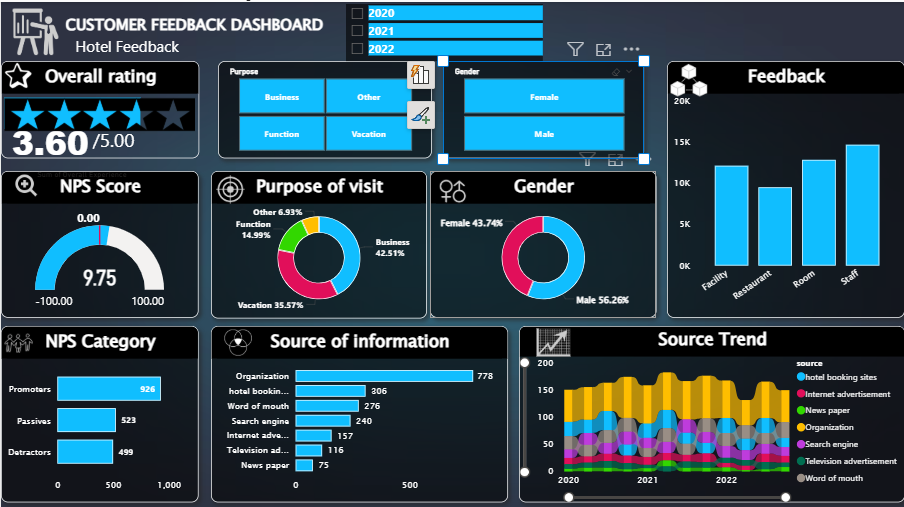

The dashboard page shown, as its layout file describes it:
{"tool":"powerbi","page":{"name":"Page 1","canvas":[1280,720],"ordinal":0},"visuals":[{"type":"shape","title":"Overall rating","box":[0,84.2,281.1,138.4],"z":1000},{"type":"gauge","fields":{"Y":["general.NPS Score"]},"box":[0,239.7,279.7,208.3],"z":2000},{"type":"slicer","fields":{"Values":["general.Purpose"]},"box":[308.2,84.2,302.5,138.4],"z":3000},{"type":"slicer","fields":{"Values":["general.Gender"]},"box":[626.4,84.2,285.4,138.4],"z":4000},{"type":"clusteredBarChart","title":"NPS Category","fields":{"Category":["general.NPS"],"Y":["CountNonNull(general.NPS)"]},"box":[0,459.5,279.7,249.7],"z":5000},{"type":"donutChart","title":"Purpose of visit","fields":{"Category":["general.Purpose"],"Y":["CountNonNull(general.Purpose)"]},"box":[298.2,239.7,306,209],"z":6000},{"type":"donutChart","title":"Gender","fields":{"Category":["general.Gender"],"Y":["CountNonNull(general.Gender)"]},"box":[607.9,239.7,321.1,208.3],"z":7000},{"type":"clusteredBarChart","title":"Source of information","fields":{"Category":["general.source"],"Y":["CountNonNull(general.source)"]},"box":[298.2,459.5,421,249.7],"z":8000},{"type":"ribbonChart","title":"Source Trend","fields":{"Series":["general.source"],"Y":["CountNonNull(general.source)"],"Category":["general.Checkout Date (bins) 2"]},"box":[733.5,459.5,546.5,250],"z":9000},{"type":"clusteredColumnChart","title":"Feedback","fields":{"Category":["Feedback.FeedbackCategory","Feedback.Feedback"],"Y":["Sum(Feedback.Rating Score)"]},"box":[943.2,84.2,336.8,363.9],"z":10000},{"type":"card","fields":{"Values":["Avg(general.Overall Experience)"]},"box":[0,126.9,139.4,139.4],"z":11000},{"type":"textbox","box":[125.1,171.6,130.5,50.1],"z":12000},{"type":"clusteredBarChart","fields":{"Y":["Sum(general.Overall Experience)"]},"box":[0,63.8,229.6,191.3],"z":13000},{"type":"image","box":[0,11.4,279.7,296.8],"z":14000},{"type":"image","box":[0,80.8,49.6,46.8],"z":15000},{"type":"image","box":[11.3,4.3,75.1,76.5],"z":16000},{"type":"image","box":[297.6,238.1,55.3,55.3],"z":17000},{"type":"image","box":[613.7,245.2,53.9,48.2],"z":18000},{"type":"image","box":[943.9,80.8,62.4,60.9],"z":19000},{"type":"image","box":[11.3,239.5,49.6,41.1],"z":20000},{"type":"image","box":[307.6,459.2,56.7,46.8],"z":21000},{"type":"image","box":[754,453.5,58.1,58.1],"z":22000},{"type":"image","box":[0,455,49.6,56.7],"z":23000},{"type":"textbox","box":[86.5,11.3,408.2,52.4],"z":24000},{"type":"textbox","box":[100.6,42.5,299.1,38.3],"z":25000},{"type":"slicer","fields":{"Values":["general.Checkout Date.Variation.Date Hierarchy.Year"]},"box":[489,2.8,279.2,80.8],"z":26000}]}

Visuals, with their boxes in screenshot pixels (x1, y1, x2, y2), scaled from the page's 1280x720 canvas onto the 904x507 screenshot:
"Overall rating" shape: BBox(0, 59, 199, 157)
gauge - general.NPS Score: BBox(0, 169, 198, 315)
slicer - general.Purpose: BBox(218, 59, 431, 157)
slicer - general.Gender: BBox(442, 59, 644, 157)
"NPS Category" clusteredBarChart: BBox(0, 324, 198, 499)
"Purpose of visit" donutChart: BBox(211, 169, 427, 316)
"Gender" donutChart: BBox(429, 169, 656, 315)
"Source of information" clusteredBarChart: BBox(211, 324, 508, 499)
"Source Trend" ribbonChart: BBox(518, 324, 903, 500)
"Feedback" clusteredColumnChart: BBox(666, 59, 903, 316)
card - Avg(general.Overall Experience): BBox(0, 89, 98, 188)
textbox: BBox(88, 121, 181, 156)
clusteredBarChart - Sum(general.Overall Experience): BBox(0, 45, 162, 180)
image: BBox(0, 8, 198, 217)
image: BBox(0, 57, 35, 90)
image: BBox(8, 3, 61, 57)
image: BBox(210, 168, 249, 207)
image: BBox(433, 173, 471, 207)
image: BBox(667, 57, 711, 100)
image: BBox(8, 169, 43, 198)
image: BBox(217, 323, 257, 356)
image: BBox(533, 319, 574, 360)
image: BBox(0, 320, 35, 360)
textbox: BBox(61, 8, 349, 45)
textbox: BBox(71, 30, 282, 57)
slicer - general.Checkout Date.Variation.Date Hierarchy.Year: BBox(345, 2, 543, 59)
